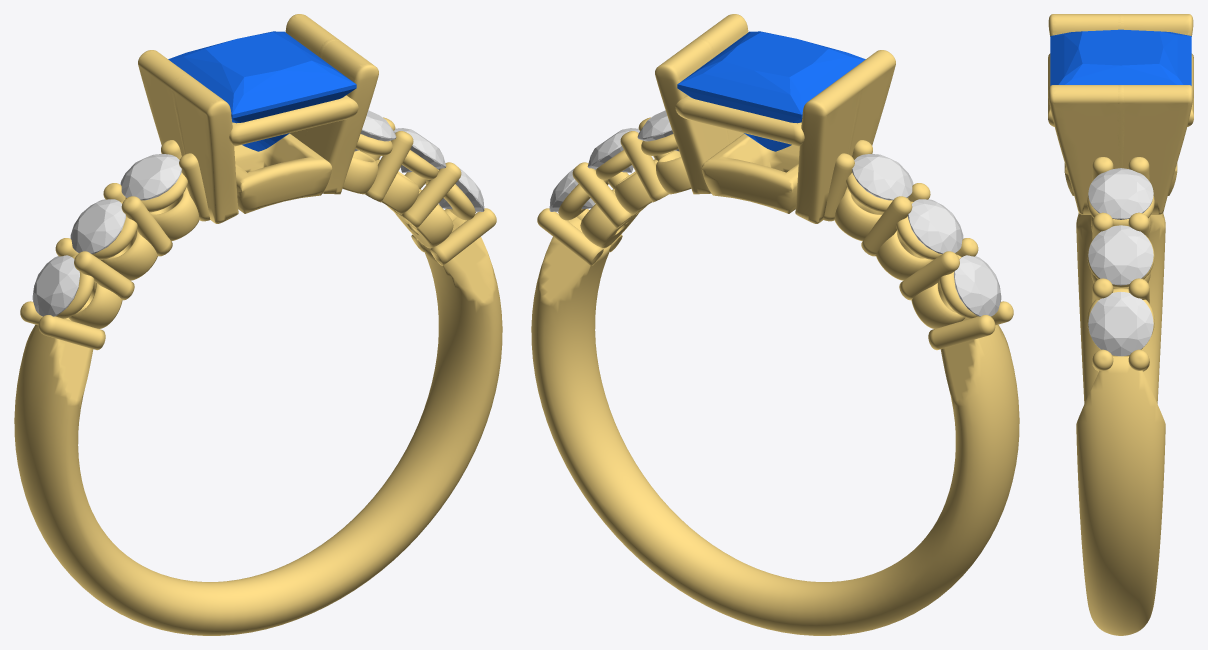
The model's file is bluesapphire-princess-yellowgold-halfmoonbezel-taperedband-7stone.glb.
3 views of the same model, side by side, from view 1: azimuth 30°, elevation 25°; view 2: azimuth 150°, elevation 25°; view 3: azimuth 270°, elevation 25° (orthographic).
Visible parts, largest first — view 1: metal, stone, side.001, side, side.002, side.004, side.003, side.005; view 2: metal, stone, side.001, side, side.002, side.004, side.003; view 3: metal, stone, side.005, side.004, side.003.
Boxes of the visible parts, x1,y1,x2,y2 form: metal: (14,14,502,635); stone: (168,31,356,151); side.001: (70,199,125,253); side: (32,255,79,316); side.002: (120,154,181,200); side.004: (394,128,446,172); side.003: (354,110,396,151); side.005: (438,168,484,211); metal: (531,14,1019,635); stone: (677,31,865,151); side.001: (908,199,963,253); side: (954,255,1001,316); side.002: (852,154,913,200); side.004: (587,128,639,172); side.003: (637,110,679,151); metal: (1048,14,1193,635); stone: (1050,29,1191,85); side.005: (1088,292,1153,356); side.004: (1088,225,1153,285); side.003: (1088,168,1153,219).
Bounding box in the file's own units: 20.49 × 23.85 × 5.6.
